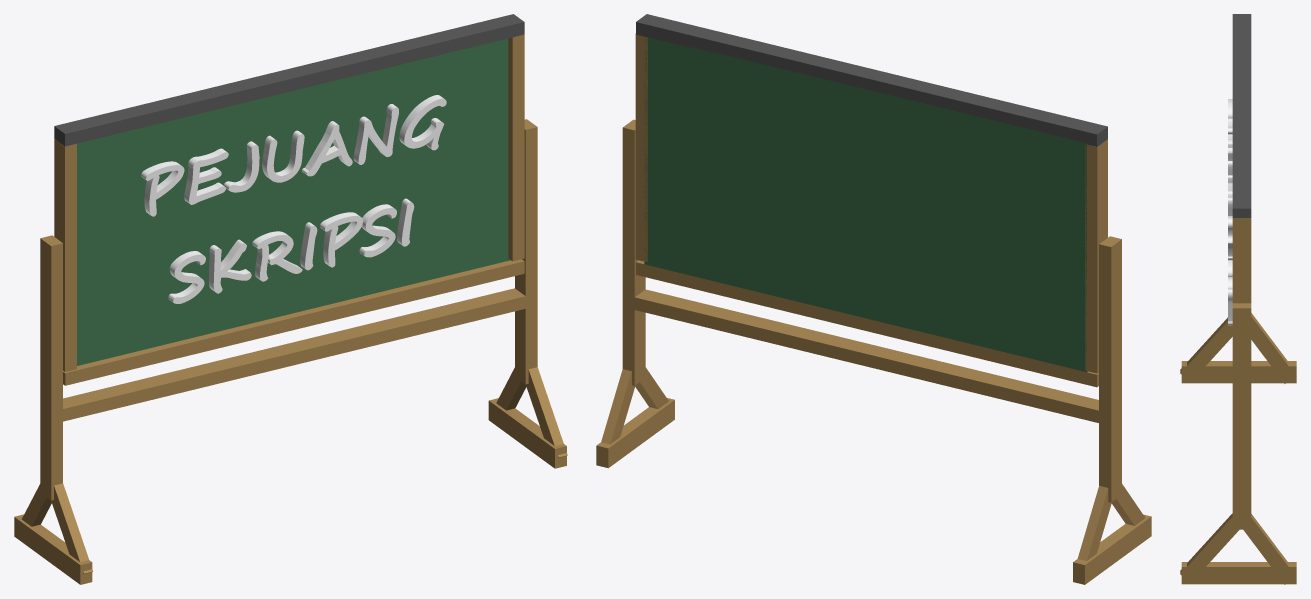
Rendered from papan tulis.fbx.
The picture shows the model from 3 angles, left to right: view 1: azimuth 30°, elevation 25°; view 2: azimuth 150°, elevation 25°; view 3: azimuth 270°, elevation 25°; orthographic projection. The views are drawn at different scales.
Parts seen in each view (by area): view 1: node_id70, node_id159 (×2), node_id80, node_id72, node_id78, node_id68, node_id76, node_id96, node_id74, node_id86, node_id94, node_id92 (+1 smaller); view 2: node_id70, node_id72, node_id80, node_id78, node_id68, node_id76, node_id96, node_id74, node_id86, node_id94, node_id88, node_id90; view 3: node_id76, node_id80, node_id94, node_id86, node_id74, node_id90, node_id92, node_id159 (×2), node_id84, node_id88.
Boxes of the visible parts, x1,y1,x2,y2 form: node_id70: [77, 38, 510, 365]; node_id159 (×2): [141, 95, 446, 303]; node_id80: [54, 14, 524, 146]; node_id72: [61, 288, 525, 421]; node_id78: [63, 259, 524, 385]; node_id68: [40, 235, 62, 500]; node_id76: [515, 119, 537, 384]; node_id96: [54, 139, 76, 371]; node_id74: [508, 34, 524, 261]; node_id86: [14, 514, 92, 584]; node_id94: [488, 398, 566, 468]; node_id92: [525, 367, 567, 457]; node_id70: [644, 37, 1087, 372]; node_id72: [629, 289, 1102, 423]; node_id80: [636, 14, 1107, 146]; node_id78: [636, 260, 1098, 387]; node_id68: [1099, 236, 1121, 502]; node_id76: [622, 119, 645, 385]; node_id96: [1085, 139, 1107, 373]; node_id74: [635, 33, 647, 262]; node_id86: [1073, 514, 1151, 584]; node_id94: [596, 398, 674, 468]; node_id88: [1077, 485, 1111, 560]; node_id90: [601, 369, 635, 444]; node_id76: [1232, 303, 1251, 529]; node_id80: [1232, 14, 1251, 218]; node_id94: [1181, 562, 1296, 584]; node_id86: [1181, 361, 1296, 383]; node_id74: [1232, 218, 1251, 303]; node_id90: [1235, 512, 1296, 584]; node_id92: [1180, 513, 1241, 582]; node_id159 (×2): [1228, 99, 1232, 325]; node_id84: [1180, 317, 1232, 381]; node_id88: [1251, 313, 1294, 383].
Size of the model in its own units: 0.512 by 0.4294 by 0.1223.
17 materials, 15 textured.
